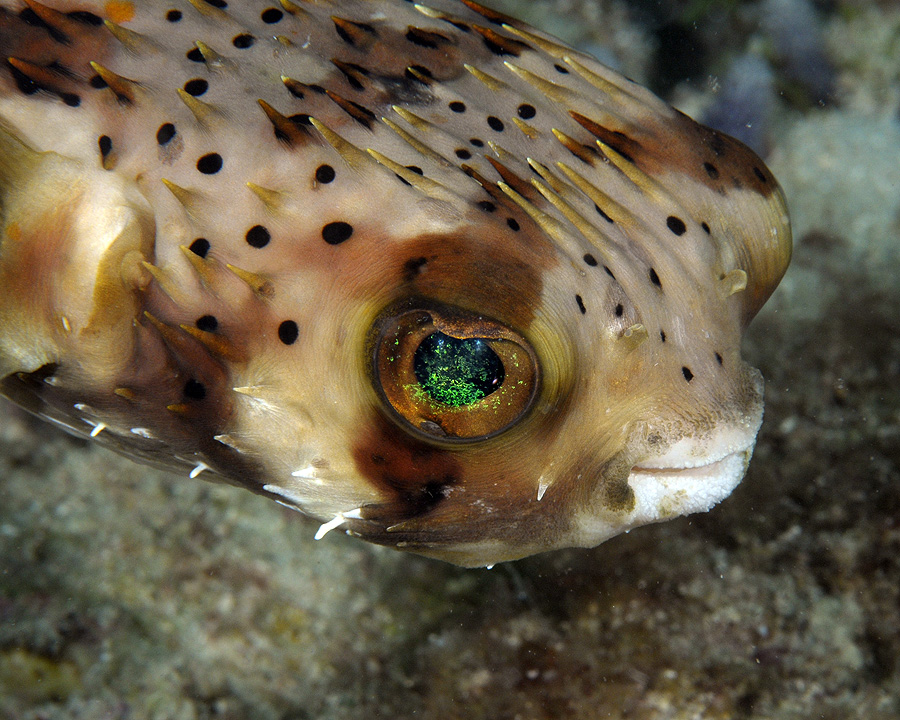Diodon_holocanthus: (1, 24, 807, 605)
